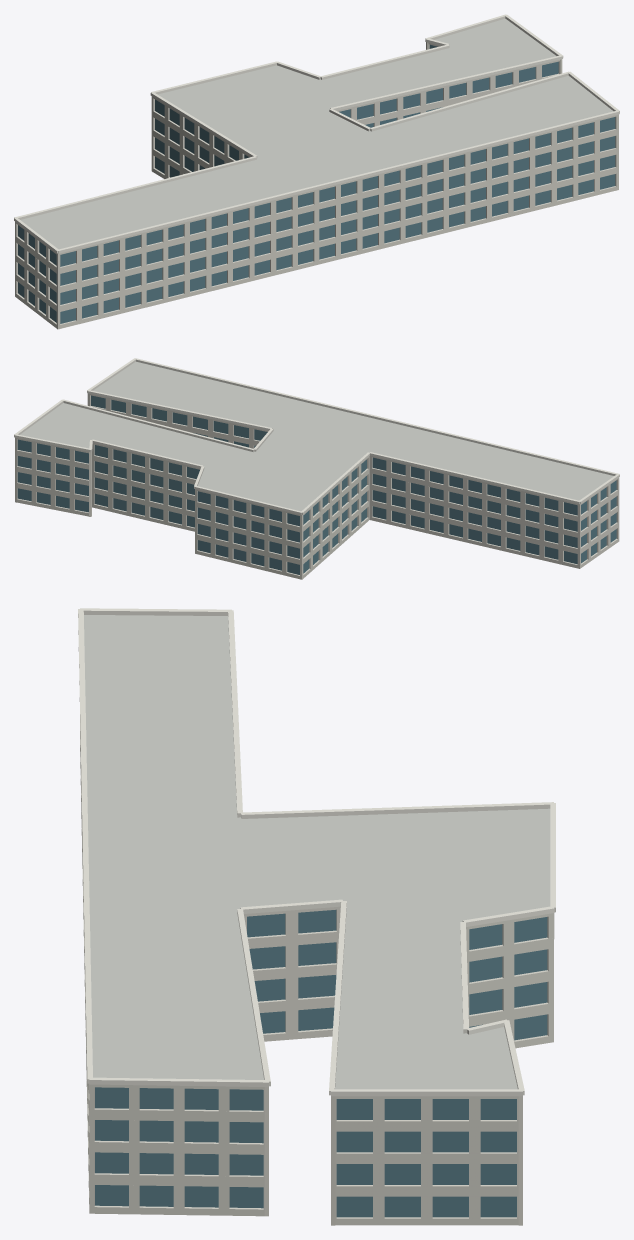
Rendered from sb_1556523871.far.glb.
The picture shows the model from 3 angles, top to bottom: view 1: azimuth 30°, elevation 25°; view 2: azimuth 150°, elevation 25°; view 3: azimuth 270°, elevation 25°; orthographic projection. The views are drawn at different scales.
Visible parts, largest first — view 1: roof, wall, glass, trim; view 2: roof, wall, glass, trim; view 3: roof, wall, glass, trim.
Part boxes in pixels (left/top/right/bottom): roof: left=21, top=18, right=613, bottom=249; wall: left=15, top=42, right=618, bottom=329; glass: left=18, top=44, right=615, bottom=323; trim: left=14, top=14, right=619, bottom=253; roof: left=20, top=361, right=613, bottom=511; wall: left=15, top=393, right=619, bottom=579; glass: left=17, top=395, right=616, bottom=574; trim: left=14, top=358, right=619, bottom=514; roof: left=84, top=615, right=550, bottom=1089; wall: left=80, top=719, right=554, bottom=1225; glass: left=95, top=910, right=547, bottom=1217; trim: left=78, top=608, right=555, bottom=1096.
Size of the model in its own units: 100 by 13.04 by 41.96.
